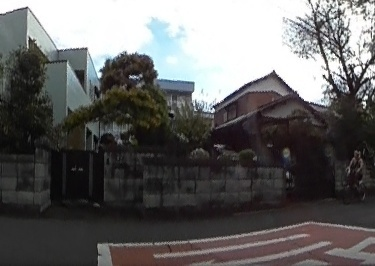person: (345, 149, 363, 196)
